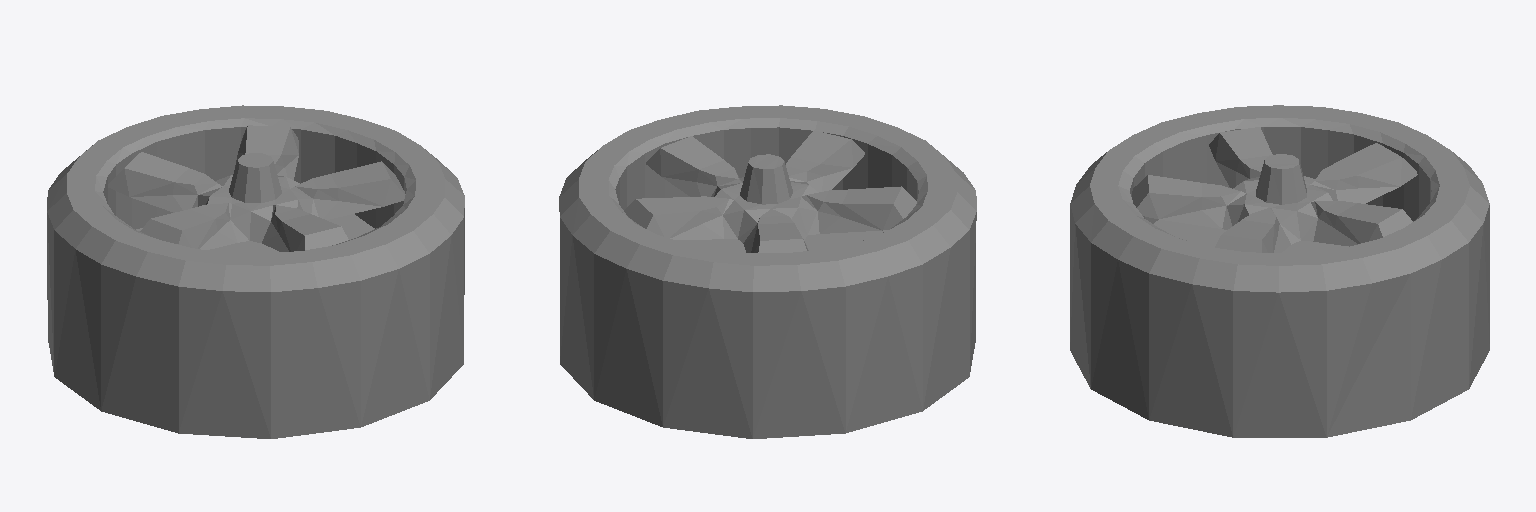
Rendered from porche918_frontRightTire.obj.
The picture shows the model from 3 angles: view 1: azimuth 30°, elevation 25°; view 2: azimuth 150°, elevation 25°; view 3: azimuth 270°, elevation 25°; orthographic projection.
Parts seen in each view (by area): view 1: rrTire; view 2: rrTire; view 3: rrTire.
Part boxes in pixels (x1,y1,x2,y2): rrTire: (47, 105, 464, 438); rrTire: (559, 105, 976, 438); rrTire: (1070, 105, 1489, 437).
Bounding box in the file's own units: 27.83 × 13.88 × 27.83.